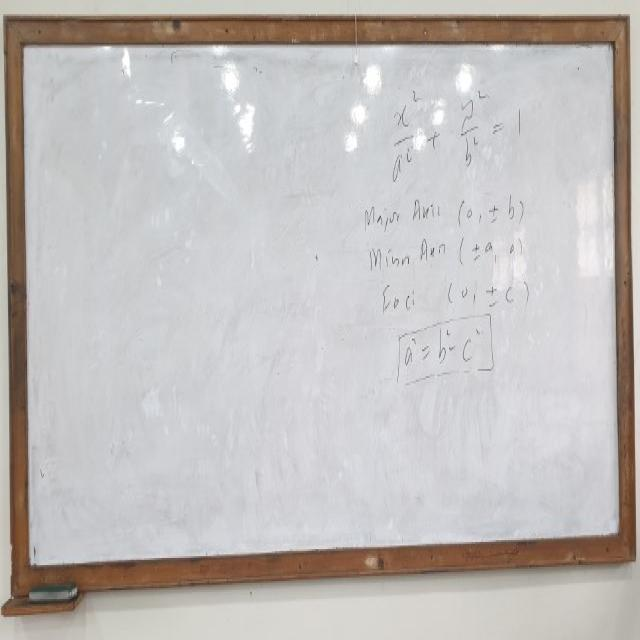White-board: (15, 33, 629, 583)
